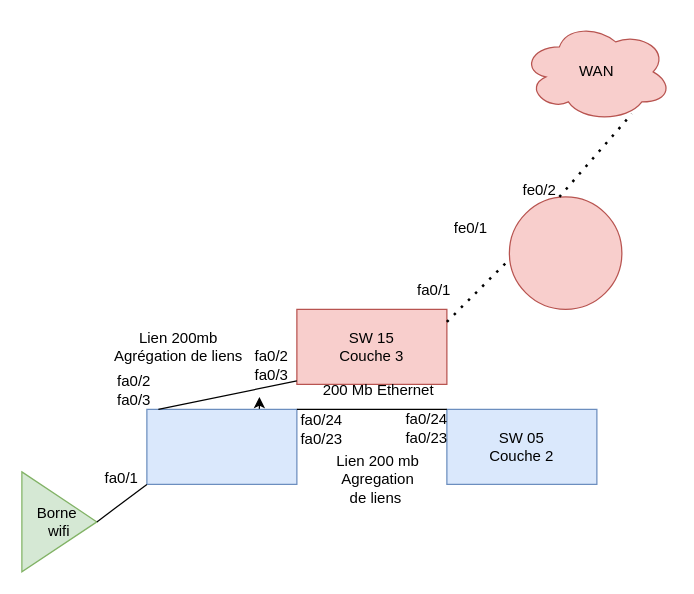
Some shapes in this 694 by 594 pixel diagram are drawn without their labels. The shapes that lost their labels are listed below. From the top down, each one's centre as x and y in pixels, then its label:
At point (565, 252): "Routeur".
At point (221, 446): "SW 03 100mb port Couche 2".
